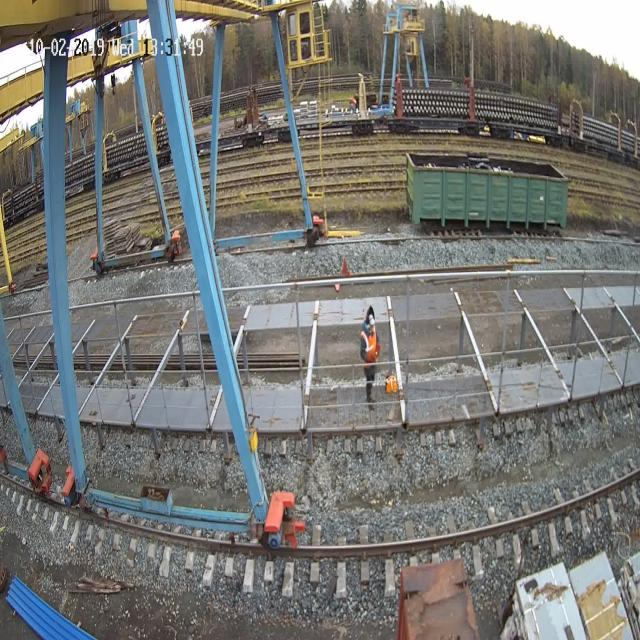Helmet: (368, 314, 374, 325)
Person: (360, 308, 380, 408)
